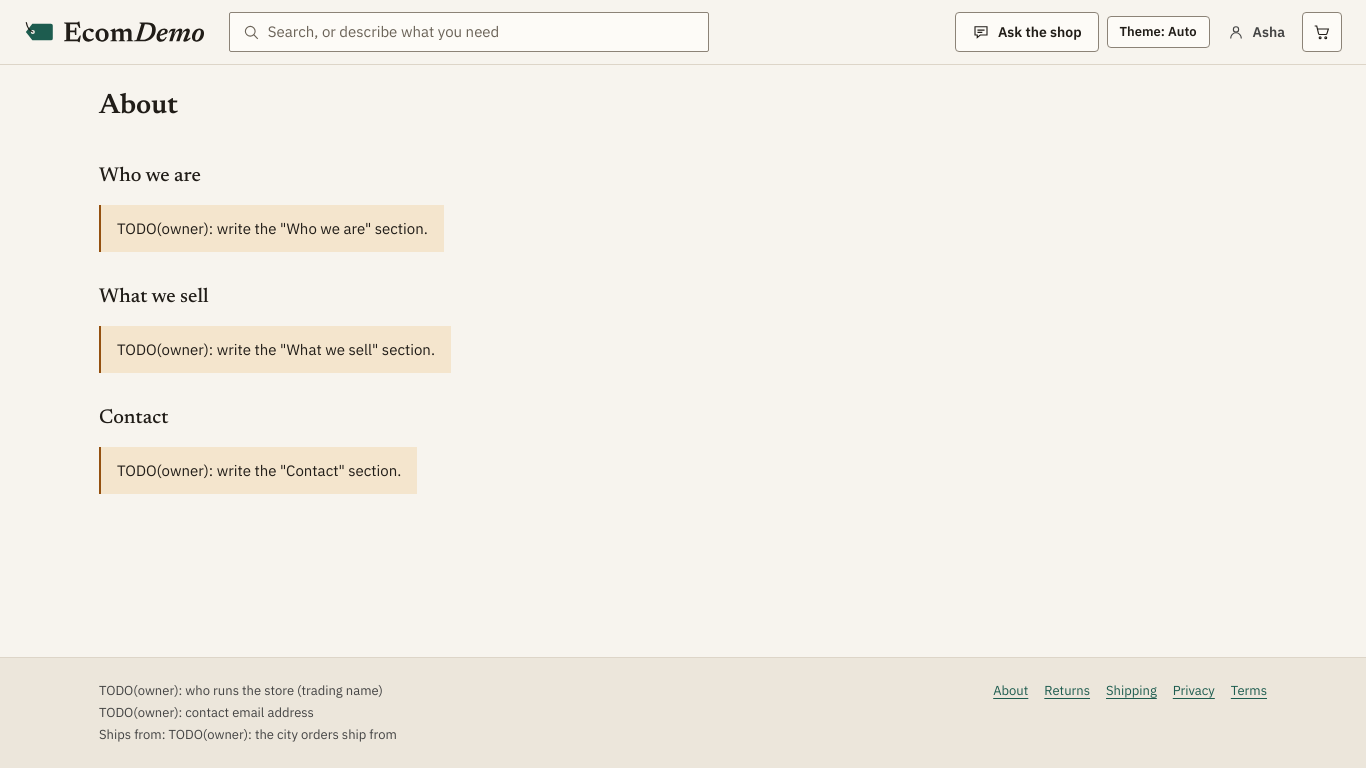
Test: opening and closing the sheet › closes with its Close button, and opens again
Check: the heading "About" is shown, box [99,89,178,123]
Click the button "Ask the shop".
click(1027, 32)  # box [955,12,1099,52]
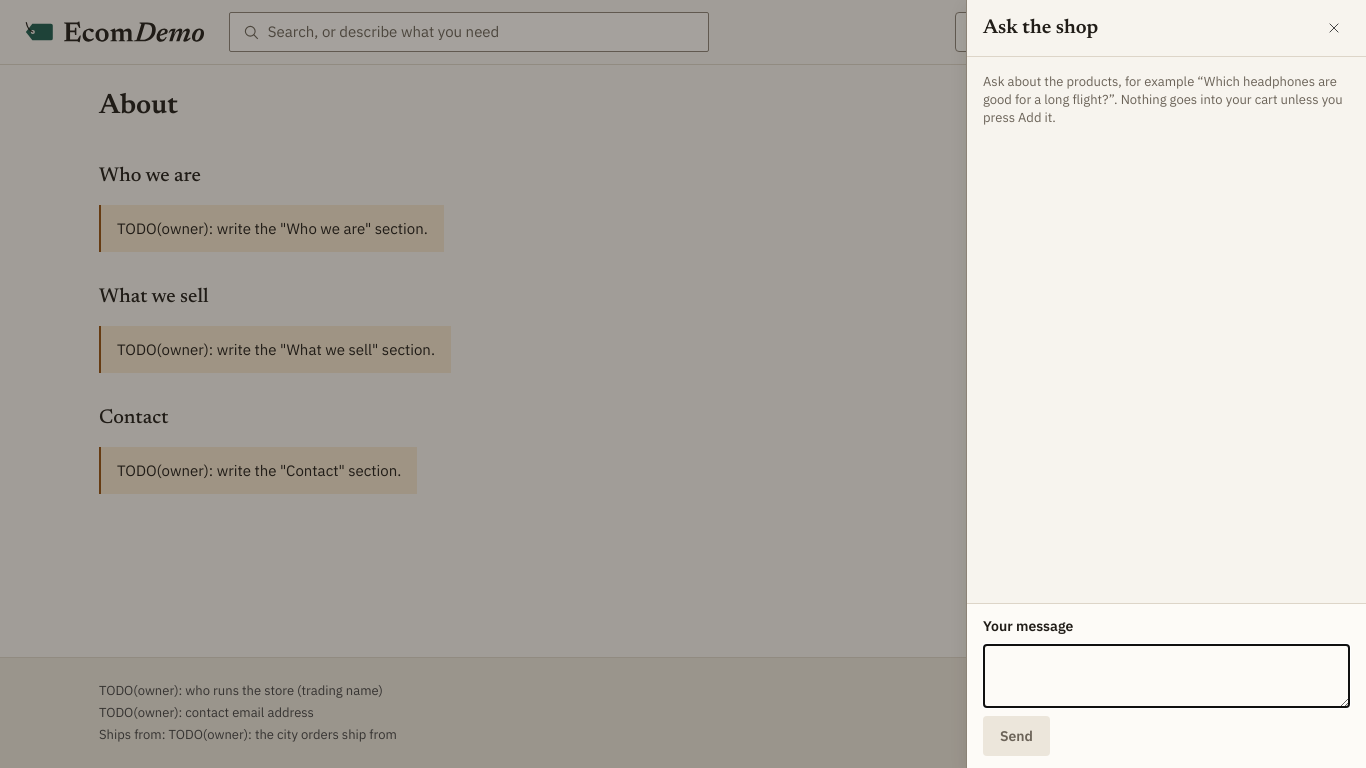
Check: the dialog "Ask the shop" is shown, box [966,0,1365,767]
Click the button named "Close".
click(1334, 28)  # box [1318,12,1350,44]
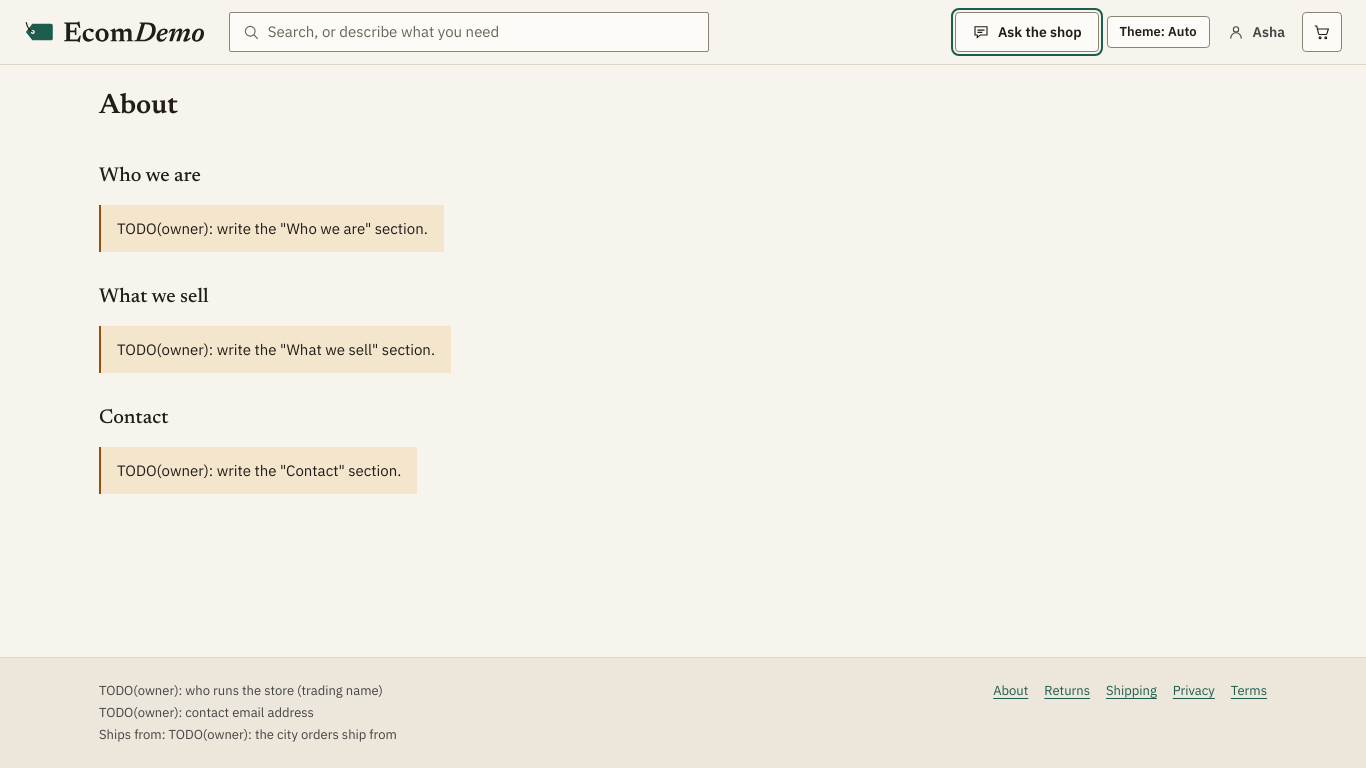
Check: the dialog is gone
Click the button "Ask the shop".
click(1027, 32)  # box [955,12,1099,52]
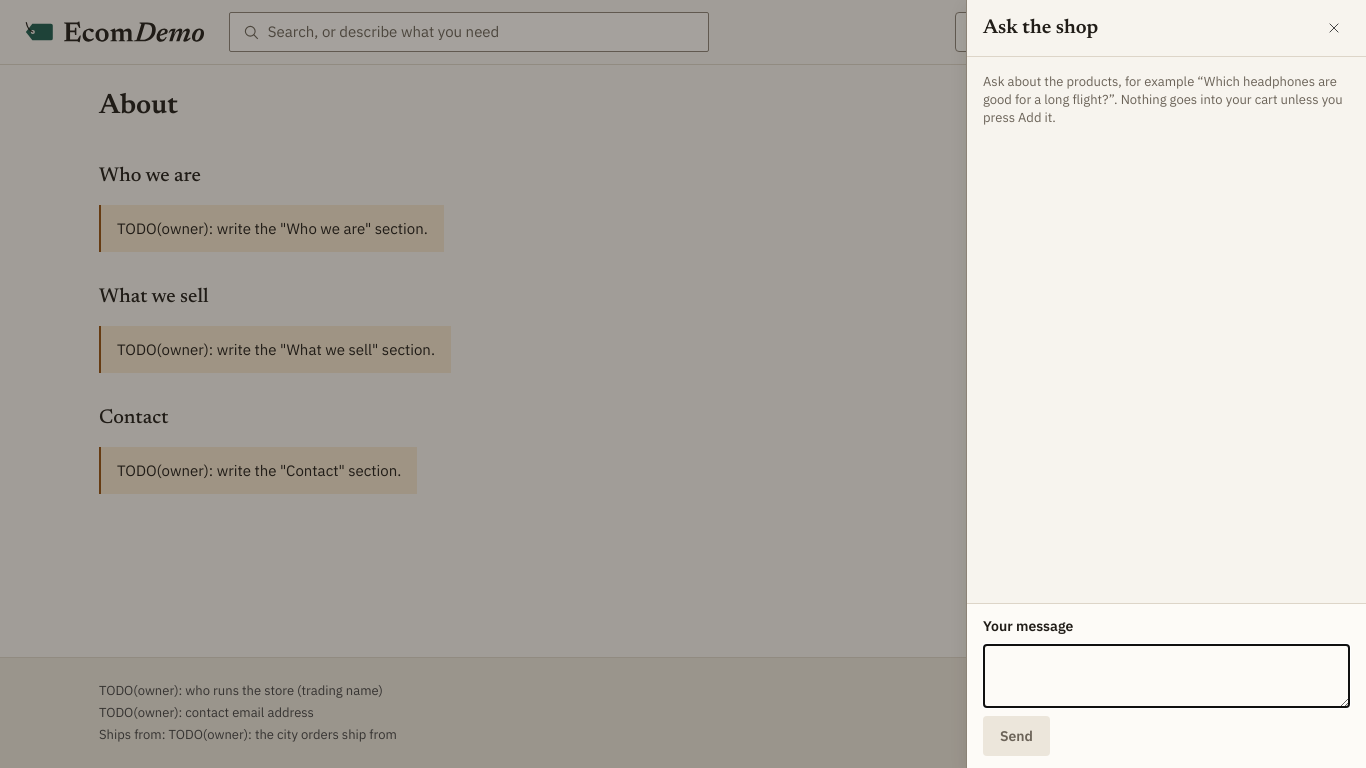
Check: the dialog "Ask the shop" is shown, box [966,0,1365,767]
